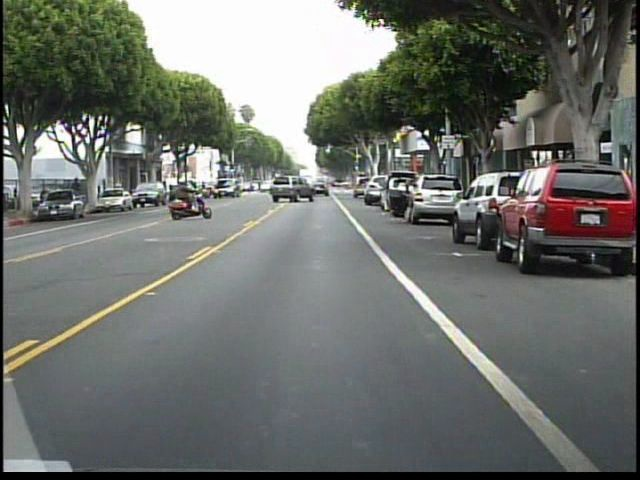person: (397, 171, 418, 229), (164, 177, 192, 216), (70, 173, 87, 211)
